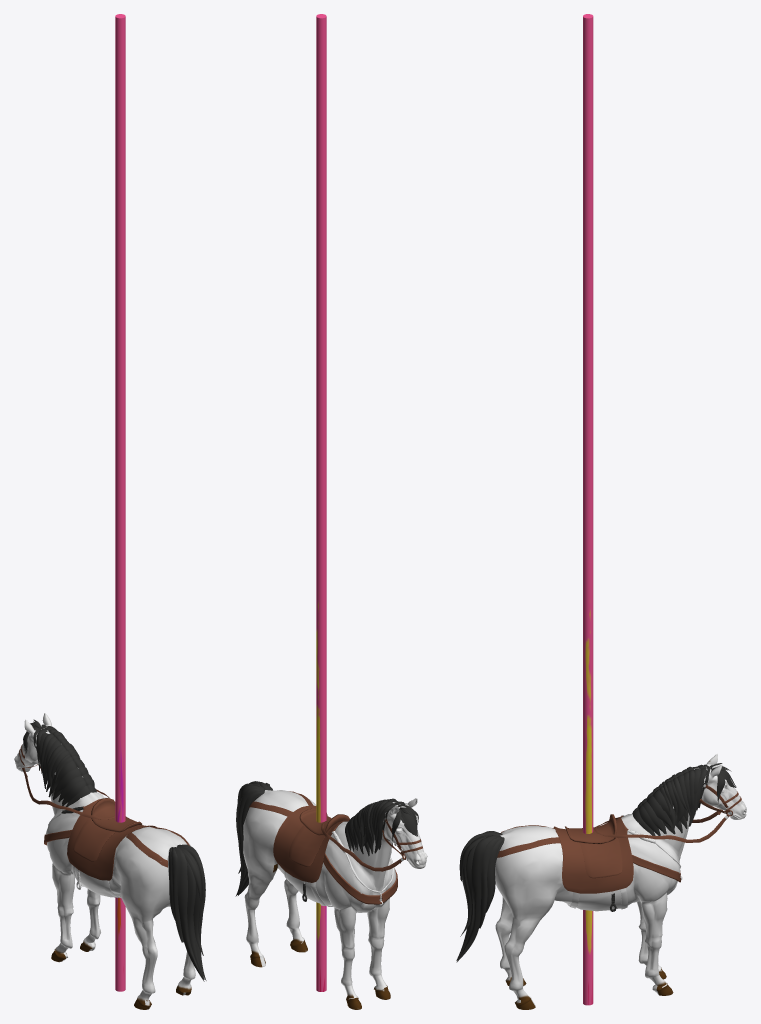
Rendered from HorseDOWN.fbx.
3 renders of one model, left to right at view 1: azimuth 30°, elevation 25°; view 2: azimuth 210°, elevation 25°; view 3: azimuth 270°, elevation 25°, orthographic.
Visible parts, largest first — view 1: polySurface4426; view 2: polySurface4426; view 3: polySurface4426.
Part boxes in pixels (x1=…): polySurface4426: x1=14, y1=14, x2=206, y2=1009; polySurface4426: x1=235, y1=14, x2=427, y2=1009; polySurface4426: x1=456, y1=14, x2=746, y2=1009.
Bounding box in the file's own units: 0.6972 × 7.93 × 2.12.
